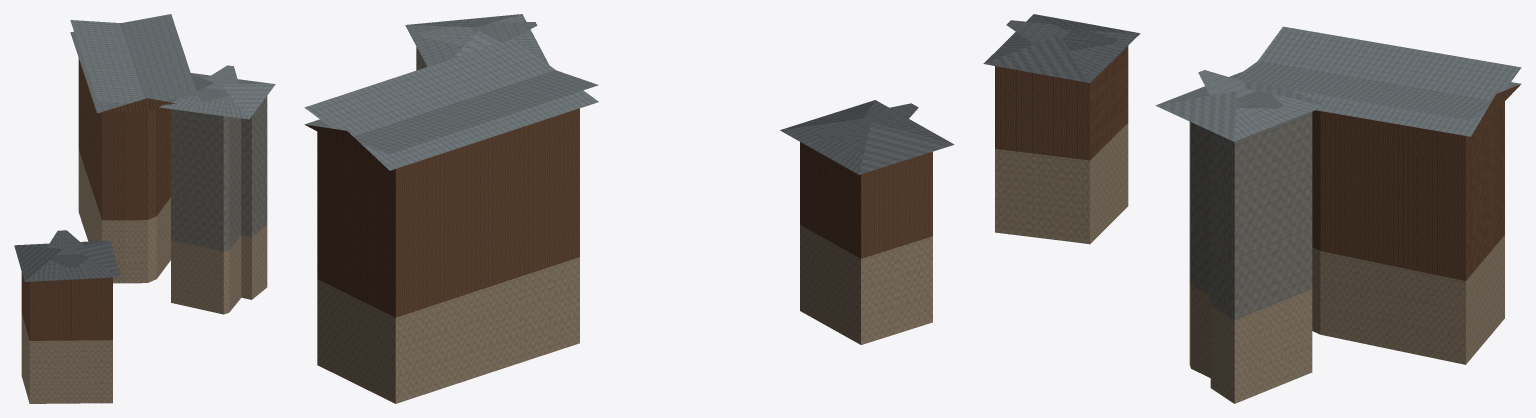
File: bld_c-11_35_472.gltf
3 renders of one model, left to right at view 1: azimuth 30°, elevation 25°; view 2: azimuth 150°, elevation 25°; view 3: azimuth 270°, elevation 25°, orthographic. The views are drawn at different scales.
Parts seen in each view (by area): view 1: bld_c-11_35_472; view 2: bld_c-11_35_472; view 3: bld_c-11_35_472.
Part boxes in pixels (x1=…): bld_c-11_35_472: x1=14, y1=14, x2=275, y2=403; bld_c-11_35_472: x1=304, y1=14, x2=954, y2=403; bld_c-11_35_472: x1=983, y1=14, x2=1521, y2=403.
Size of the model in its own units: 27.66 by 17.3 by 29.74.
6 materials, 6 textured.
